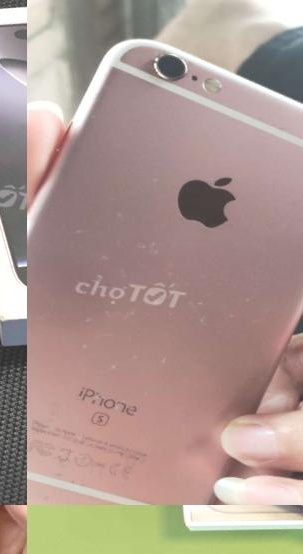scratch: (63, 295, 222, 415), (181, 266, 287, 348), (242, 93, 303, 232), (27, 447, 169, 505), (128, 42, 231, 118), (128, 233, 183, 276), (107, 193, 144, 233)
